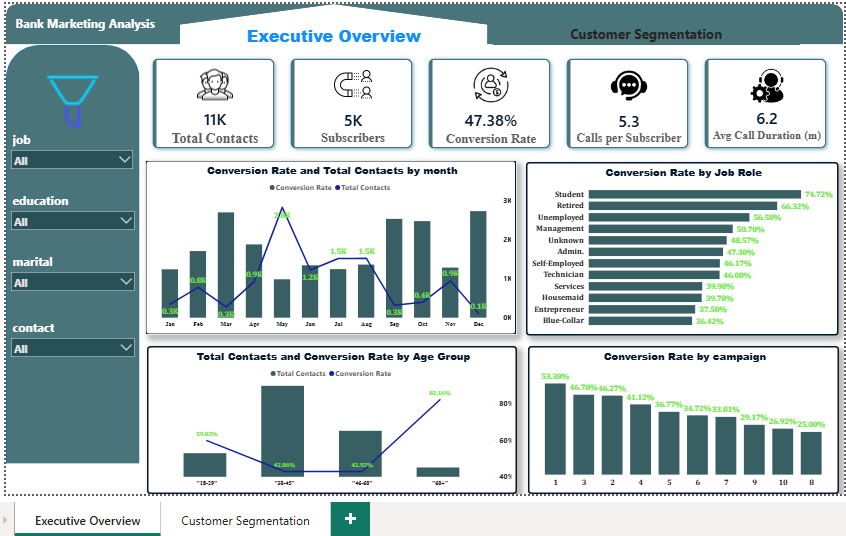

Layout of this report page (visuals, bound fields, positions):
{"tool":"powerbi","page":{"name":"Executive Overview","canvas":[1675,980],"ordinal":0},"visuals":[{"type":"cardVisual","fields":{"Data":["_measures.Total Contacts","_measures.Subscribers","_measures.Conversion Rate","_measures.Calls per Subscriber","_measures.Avg Call Duration (min)"]},"box":[264,80,1408,238],"z":0},{"type":"shape","box":[0,0,1674.4,81],"z":1000},{"type":"pageNavigator","box":[347.8,0,1240.2,82.8],"z":2000},{"type":"textbox","box":[14.7,16.6,303.6,51.5],"z":3000},{"type":"shape","box":[0,82.8,266.8,837.2],"z":4000},{"type":"lineClusteredColumnComboChart","fields":{"Y":["_measures.Conversion Rate"],"Category":["Bank_Clean.month"],"Y2":["_measures.Total Contacts"]},"box":[278.7,312.7,743.3,350],"z":5000},{"type":"lineClusteredColumnComboChart","fields":{"Y":["_measures.Total Contacts"],"Y2":["_measures.Conversion Rate"],"Category":["Bank_Clean.Age Group"]},"box":[282.9,684.4,739.7,296.2],"z":6000},{"type":"clusteredBarChart","title":"Conversion Rate by Job Role","fields":{"Category":["Bank_Clean.job"],"Y":["_measures.Conversion Rate"]},"box":[1040.3,316.1,625,346.7],"z":7000},{"type":"columnChart","fields":{"Y":["_measures.Conversion Rate"],"Category":["Bank_Clean.campaign"]},"box":[1044.6,684.4,621.9,296.2],"z":8000},{"type":"slicer","fields":{"Values":["Bank_Clean.job"]},"box":[0,248.4,263.8,105.5],"z":9000},{"type":"slicer","fields":{"Values":["Bank_Clean.education"]},"box":[0,370,266.7,101.7],"z":10000},{"type":"slicer","fields":{"Values":["Bank_Clean.marital"]},"box":[0,491.7,266.7,101.7],"z":11000},{"type":"slicer","fields":{"Values":["Bank_Clean.contact"]},"box":[0,623.3,266.7,101.7],"z":12000},{"type":"image","box":[45,121.7,175,145],"z":13000}]}

Visuals, with their boxes on the page's 1675x980 design canvas (x1, y1, x2, y2). These are canvas units, not pixel positions in the 846x536 screenshot, which may show the page scaled, cropped or inside an application window:
cardVisual - _measures.Total Contacts x _measures.Subscribers: <box>264,80,1672,318</box>
shape: <box>0,0,1674,81</box>
pageNavigator: <box>348,0,1588,83</box>
textbox: <box>15,17,318,68</box>
shape: <box>0,83,267,920</box>
lineClusteredColumnComboChart - _measures.Conversion Rate x Bank_Clean.month: <box>279,313,1022,663</box>
lineClusteredColumnComboChart - _measures.Total Contacts x _measures.Conversion Rate: <box>283,684,1023,981</box>
"Conversion Rate by Job Role" clusteredBarChart: <box>1040,316,1665,663</box>
columnChart - _measures.Conversion Rate x Bank_Clean.campaign: <box>1045,684,1666,981</box>
slicer - Bank_Clean.job: <box>0,248,264,354</box>
slicer - Bank_Clean.education: <box>0,370,267,472</box>
slicer - Bank_Clean.marital: <box>0,492,267,593</box>
slicer - Bank_Clean.contact: <box>0,623,267,725</box>
image: <box>45,122,220,267</box>
